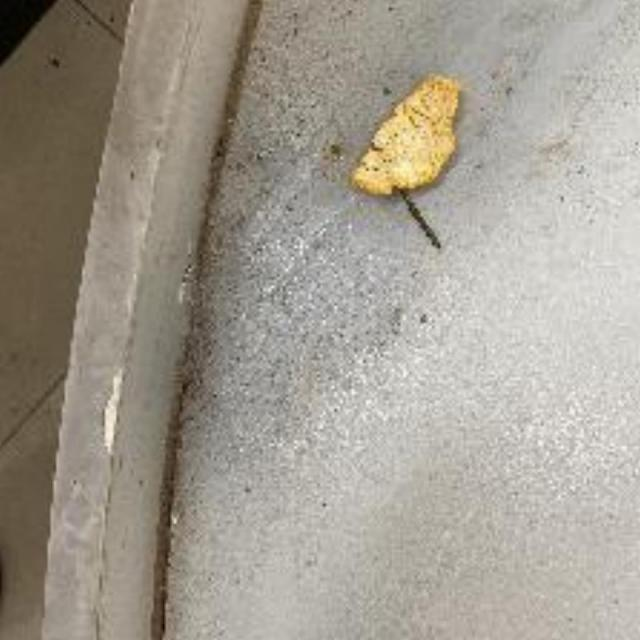orange peel: (352, 66, 469, 205)
